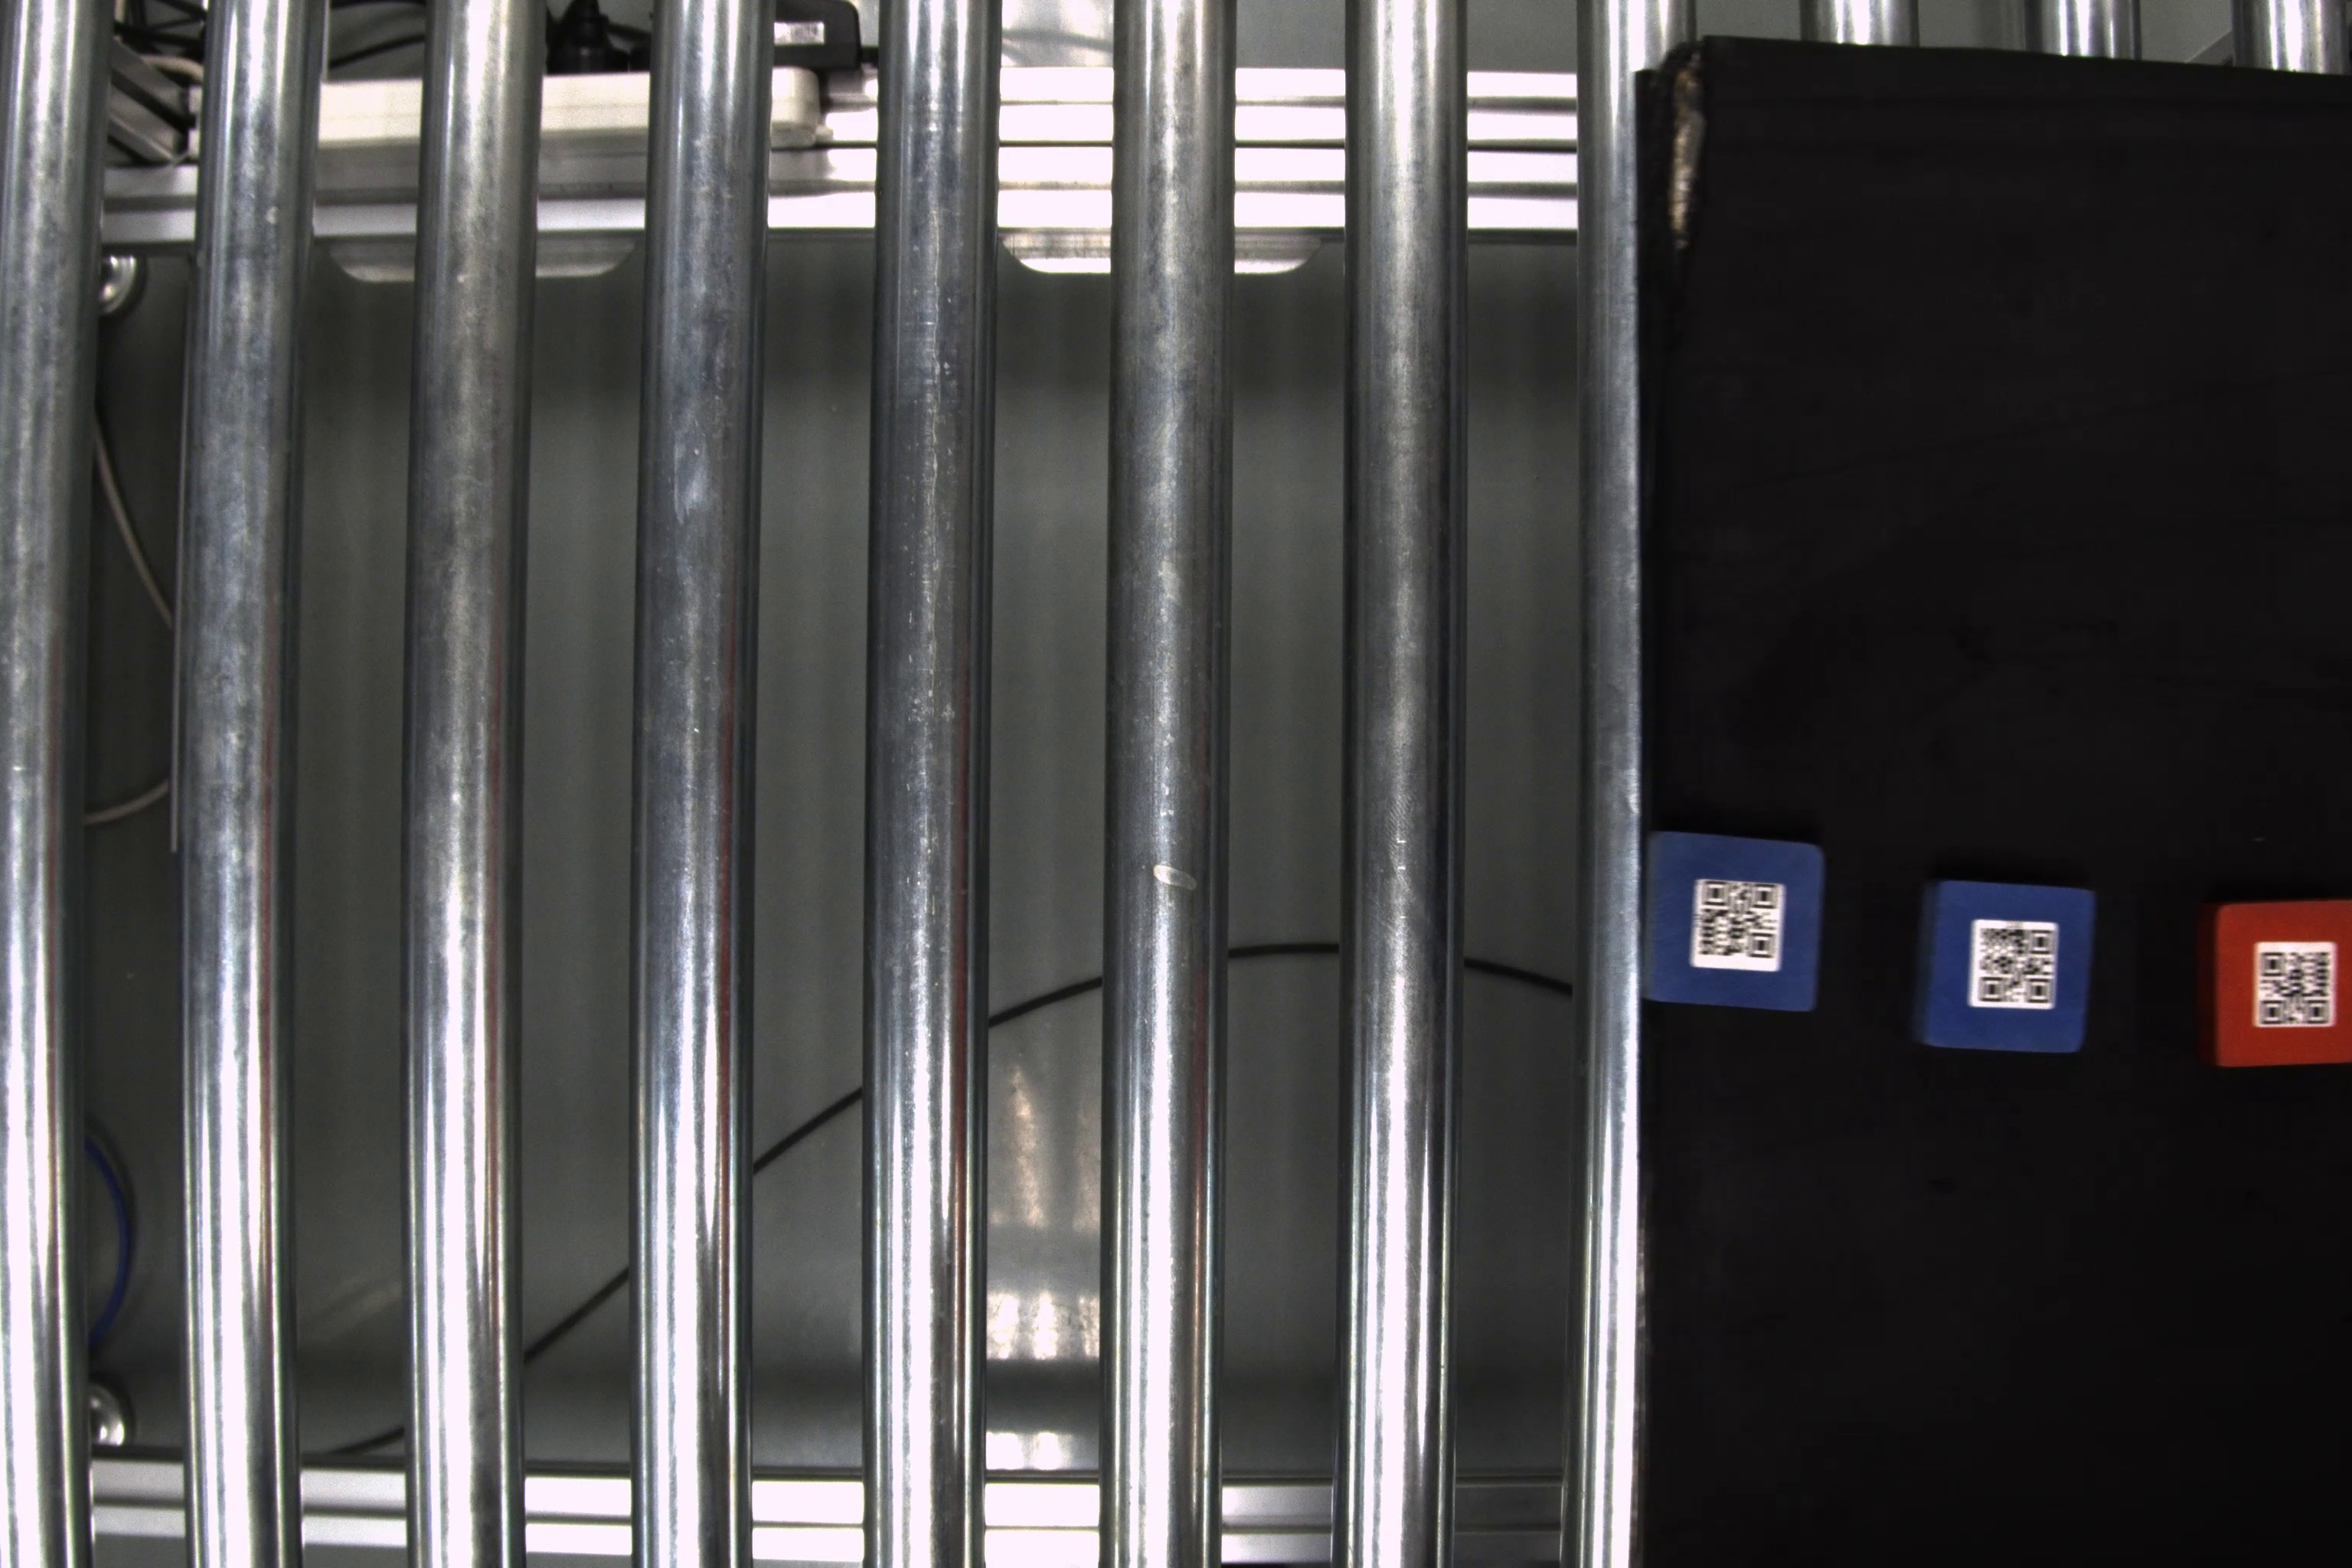wood: (1641, 831, 1827, 1015), (1916, 882, 2100, 1059), (2200, 894, 2352, 1074)
